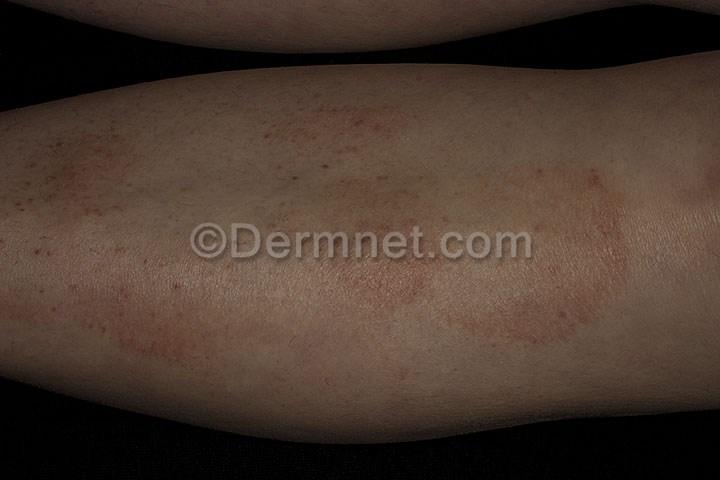Eczema: (501, 164, 698, 422), (257, 156, 440, 323), (37, 285, 165, 375), (37, 131, 127, 224)
